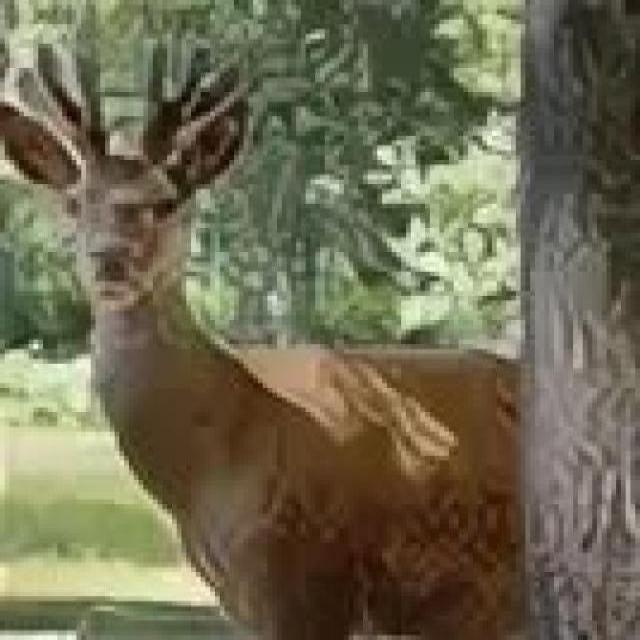deer: (25, 96, 586, 640)
